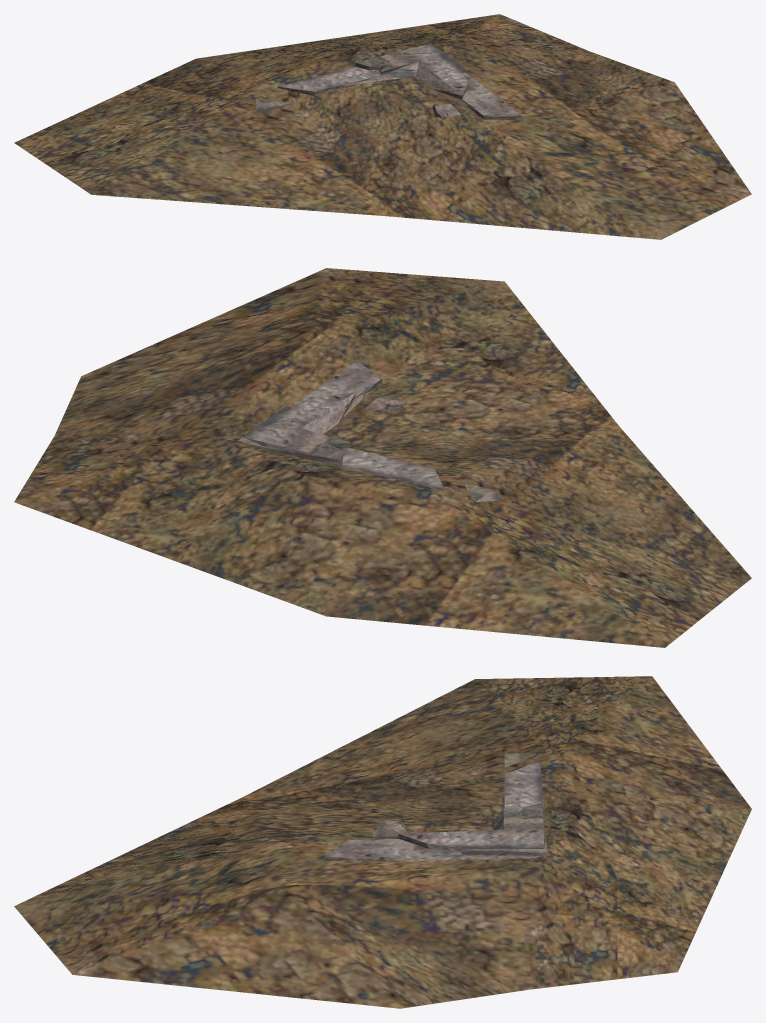
File: C4SNTOMBRUBLE1H.obj
3 views of the same model, one above another, from view 1: azimuth 30°, elevation 25°; view 2: azimuth 150°, elevation 25°; view 3: azimuth 270°, elevation 25° (orthographic). The views are drawn at different scales.
Visible parts, largest first — view 1: Node 0; view 2: Node 0; view 3: Node 0.
Part boxes in pixels (x1,y1,x2,y2): Node 0: (14,14,751,239); Node 0: (14,268,751,647); Node 0: (14,676,751,1008).
Size of the model in its own units: 20.59 by 1.5 by 19.31.
2 materials, 2 textured.
